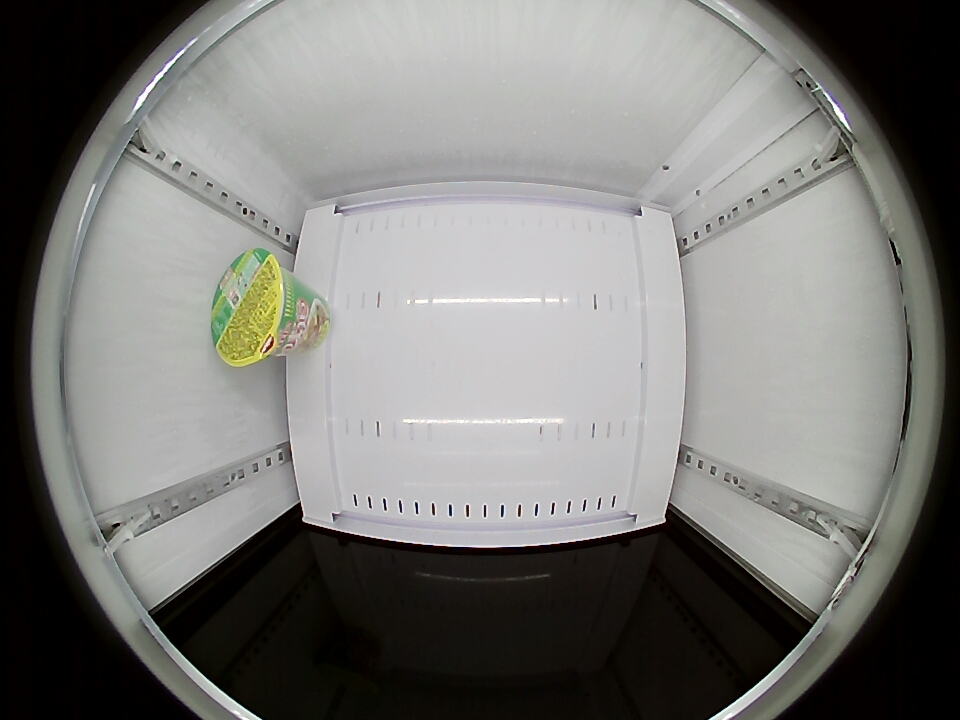heweidao2: (210, 248, 296, 367)
